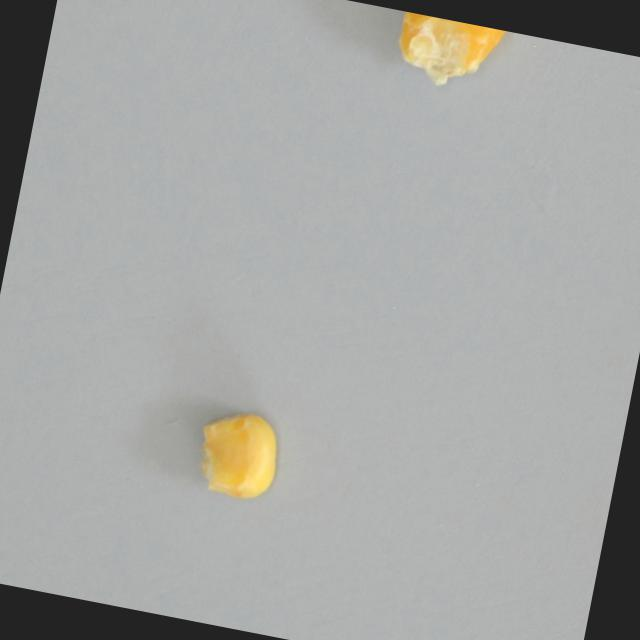no_desgerminado: (384, 9, 513, 100), (186, 402, 286, 508)
